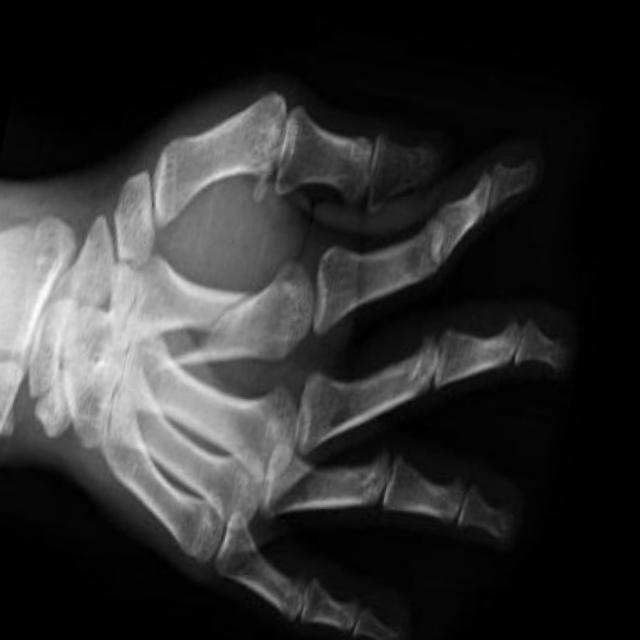fracture: (204, 266, 272, 352)
